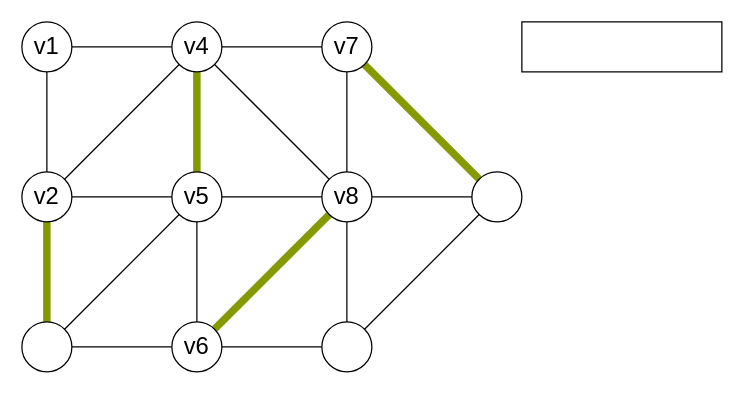
Image size: 744x394. Some labels were removed from this diagram. Each missing label, with the box of its shape:
Matched: (521, 21, 722, 72)
v10: (471, 171, 522, 222)
v3: (21, 321, 72, 372)
v9: (321, 321, 372, 372)
